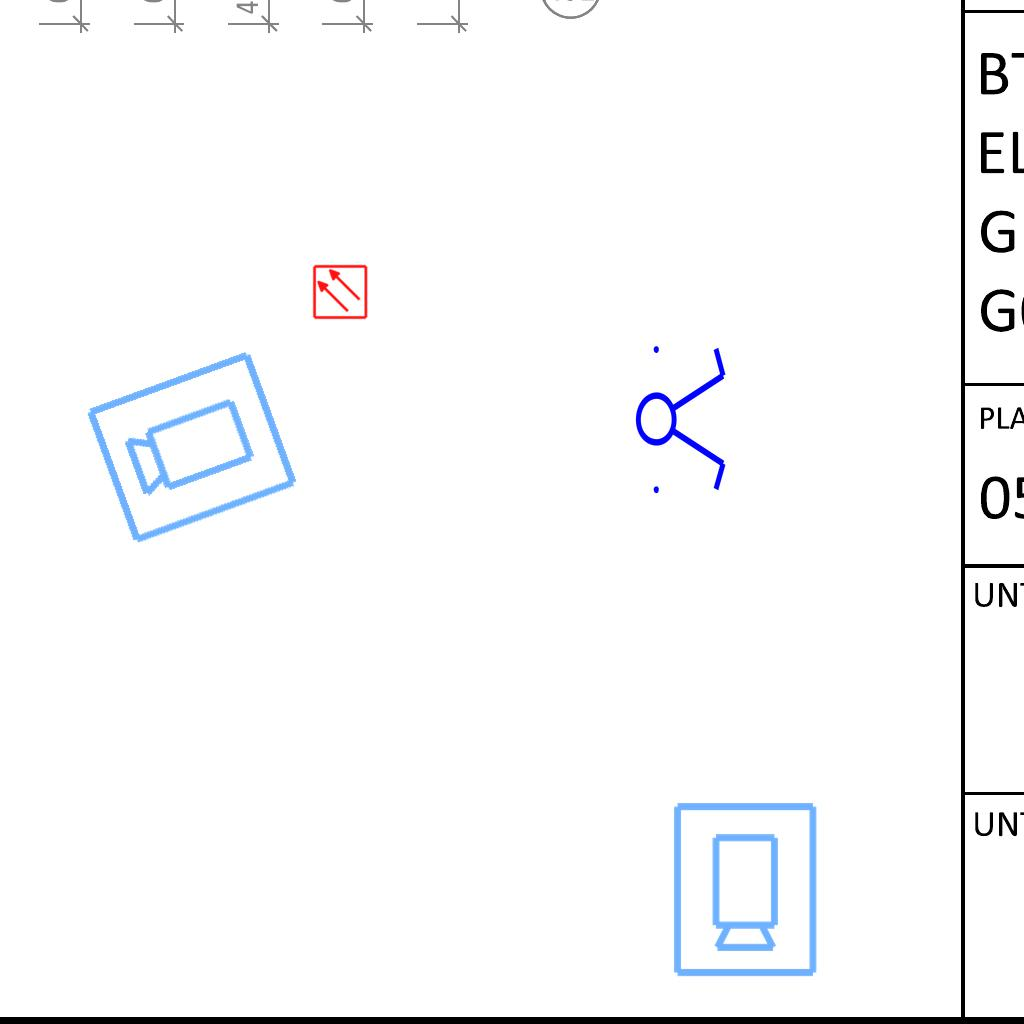KFO_Kamera_mit_Festobjektiv: (80, 342, 304, 550), (667, 798, 821, 980)
RMO_Rauchmelder_optischer: (312, 264, 368, 320)
Serienschalter: (634, 334, 730, 502)
